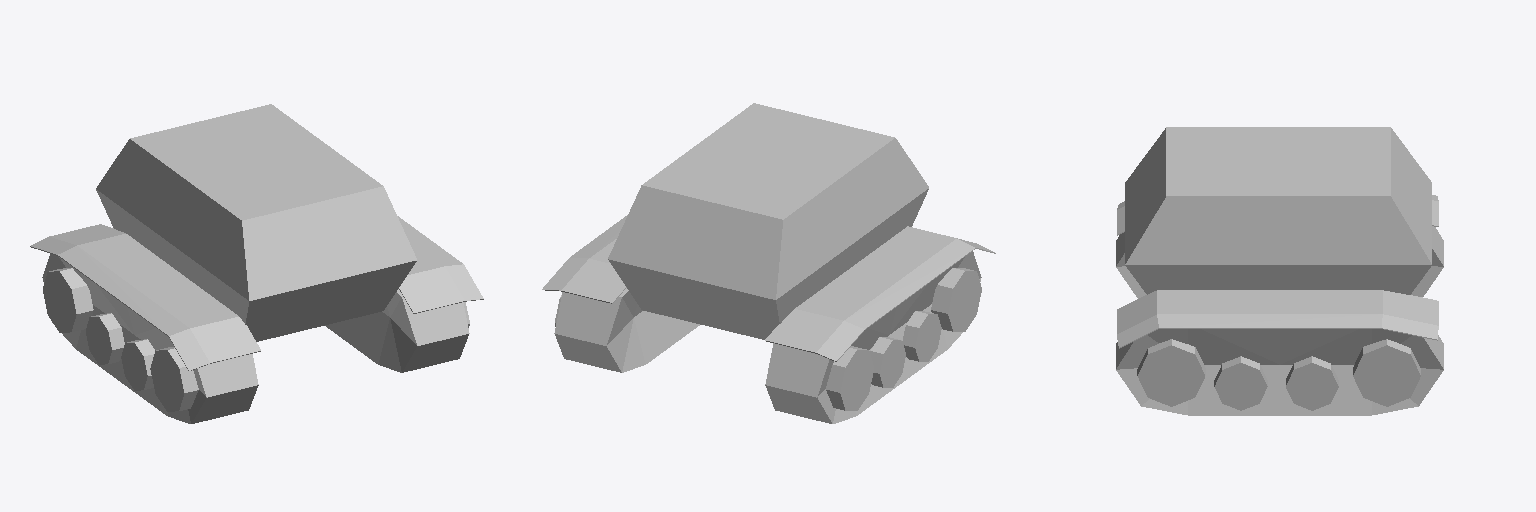
File: sensha_body.obj
3 renders of one model, left to right at view 1: azimuth 30°, elevation 25°; view 2: azimuth 150°, elevation 25°; view 3: azimuth 270°, elevation 25°, orthographic.
Parts seen in each view (by area): view 1: sensha; view 2: sensha; view 3: sensha.
Part boxes in pixels (left/top/right/bottom): sensha: left=30, top=104, right=483, bottom=423; sensha: left=542, top=103, right=995, bottom=423; sensha: left=1116, top=127, right=1443, bottom=415.
Bounding box in the file's own units: 2.1 × 1.28 × 2.02.